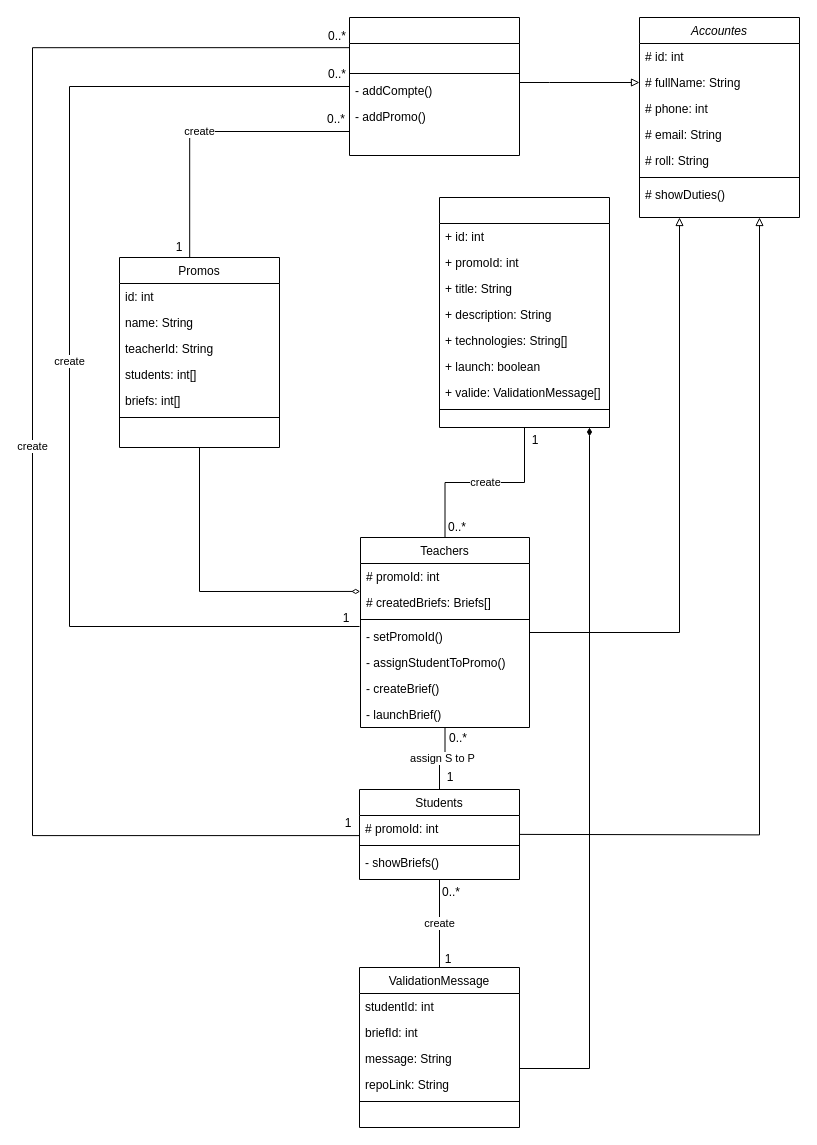
This 817x1145 diagram has some shape labels left out. Here are the shapes that lost their labels. From the top down, the box of each, then its label:
(348, 16, 520, 156): Admins
(438, 196, 610, 428): Briefs
